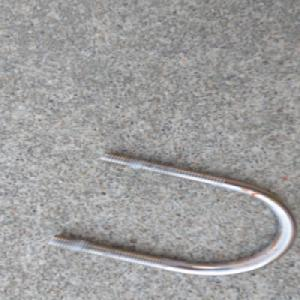ClampPart: (47, 151, 296, 277)
